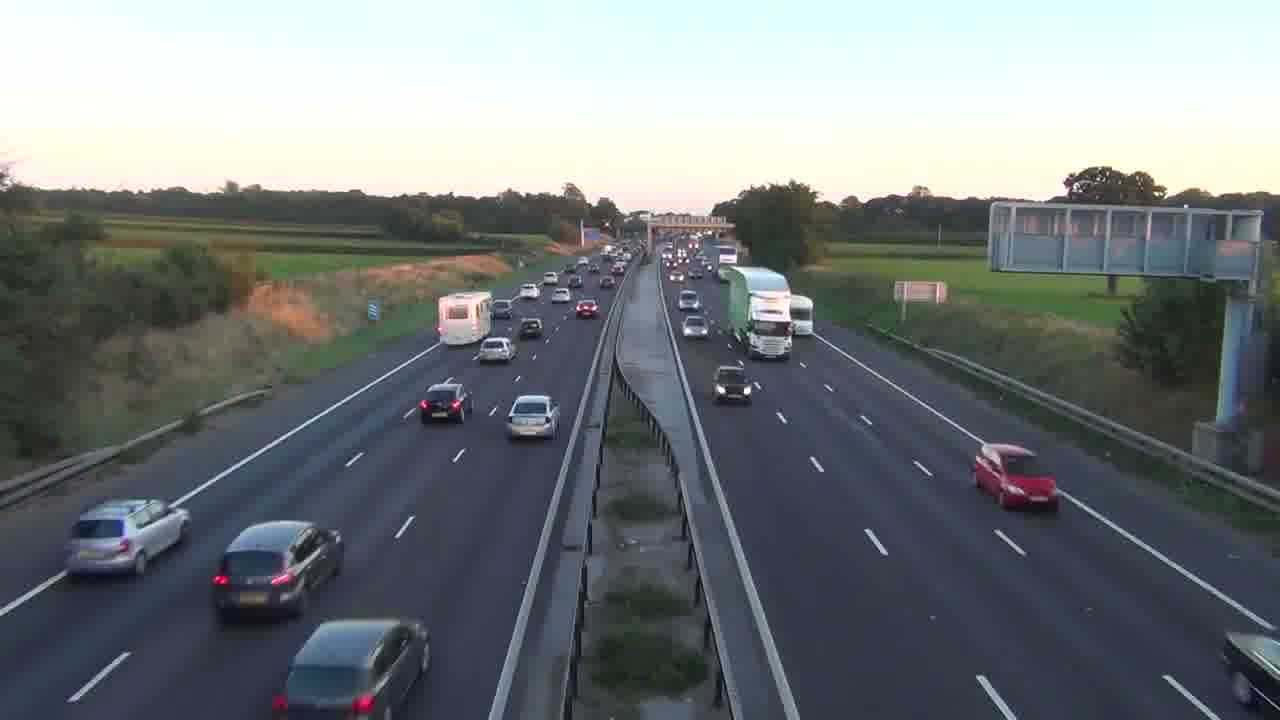car: (271, 617, 432, 717), (209, 519, 345, 621), (63, 497, 192, 578), (972, 442, 1059, 512), (1219, 631, 1279, 715), (506, 394, 560, 439), (419, 381, 472, 424), (712, 363, 757, 405), (475, 335, 516, 365), (681, 313, 709, 339)
truck: (720, 264, 794, 360)
